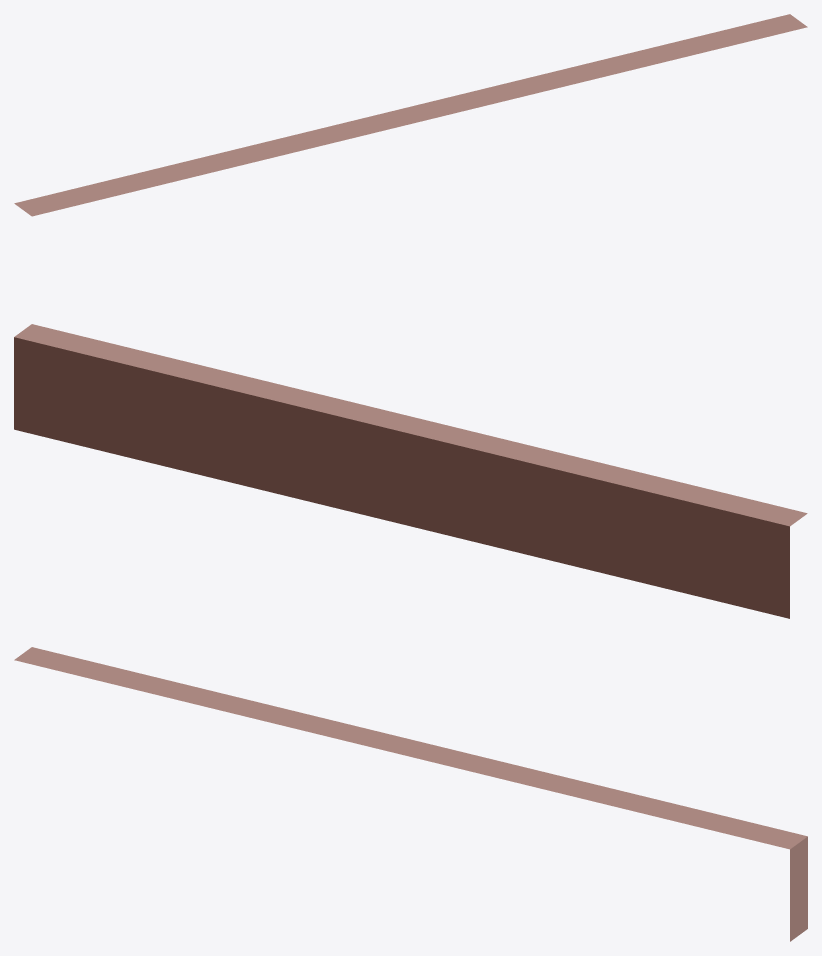
File: BeamGroundSideA.glb
The picture shows the model from 3 angles, top to bottom: view 1: azimuth 30°, elevation 25°; view 2: azimuth 150°, elevation 25°; view 3: azimuth 330°, elevation 25°; orthographic projection.
Parts seen in each view (by area): view 1: BeamGroundSideA; view 2: BeamGroundSideA; view 3: BeamGroundSideA.
Part boxes in pixels (x1,y1,x2,y2): BeamGroundSideA: (14,14,807,216); BeamGroundSideA: (14,324,807,618); BeamGroundSideA: (14,647,807,941).
Size of the model in its own units: 1.66 by 0.1895 by 0.0666.
